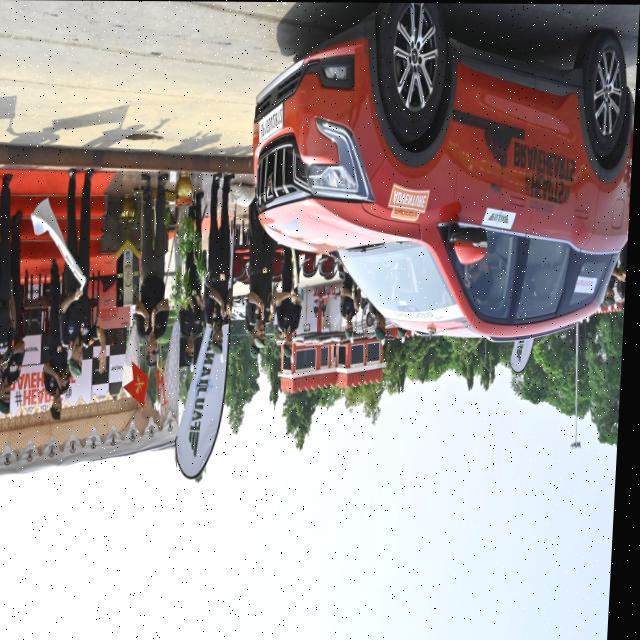plate: (258, 102, 286, 144)
